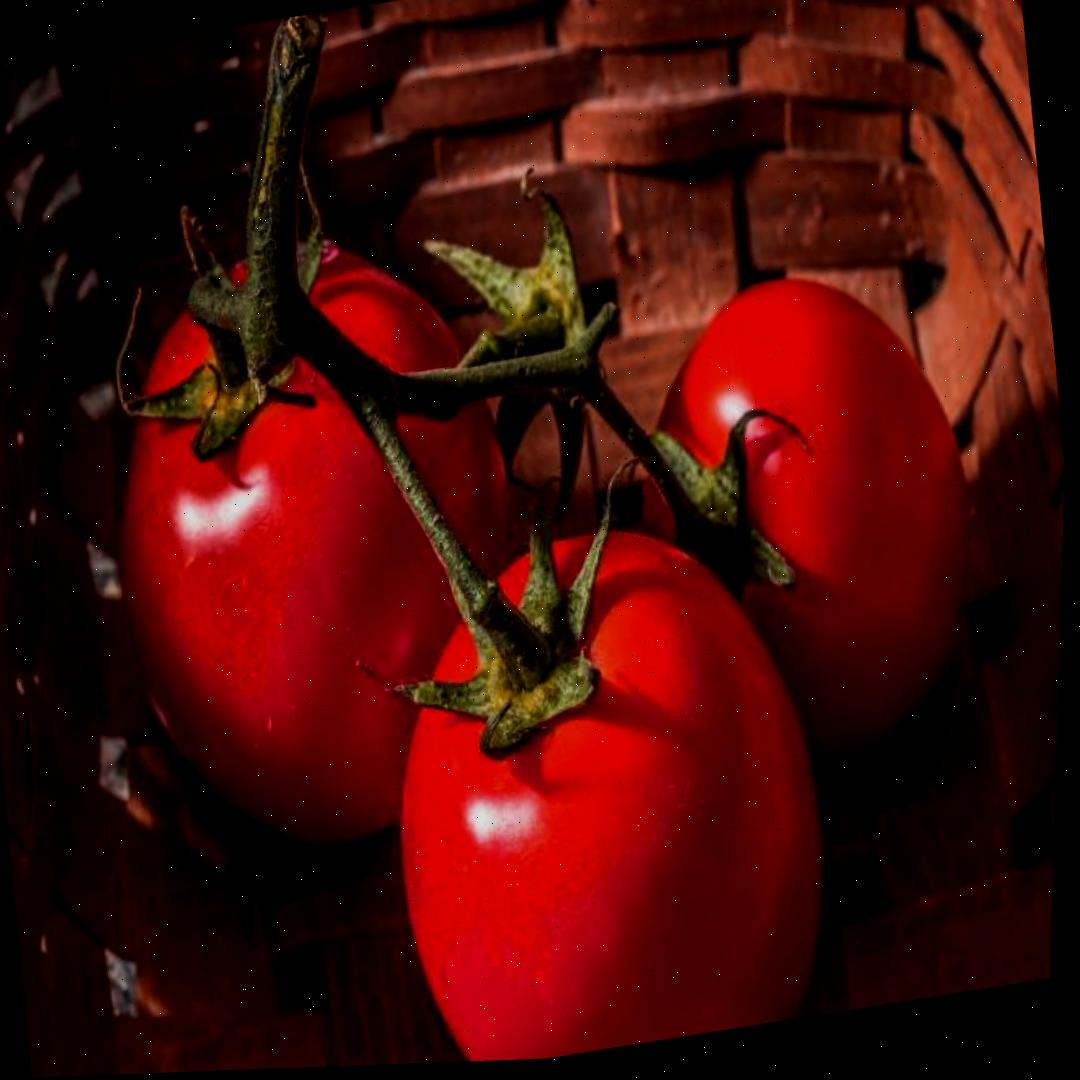matang: (72, 200, 557, 876), (358, 498, 851, 1066), (602, 249, 1001, 786)
